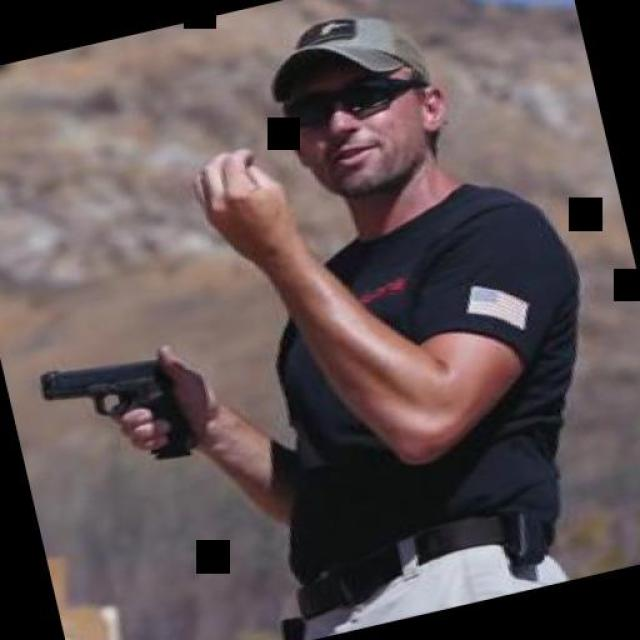gun: (28, 339, 202, 486)
